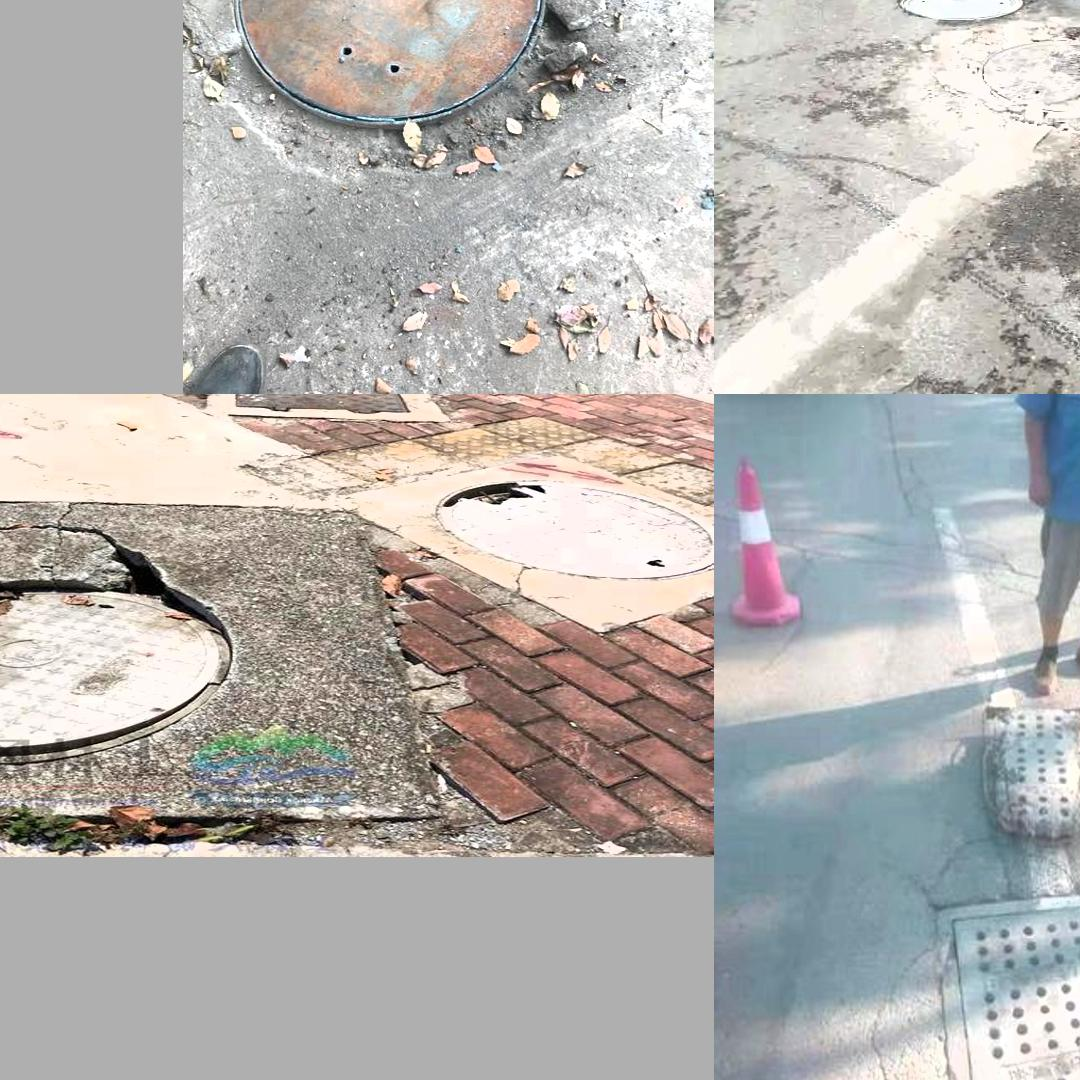circle: (0, 486, 456, 821), (197, 0, 650, 197), (857, 855, 1080, 1080), (941, 16, 1080, 184)
